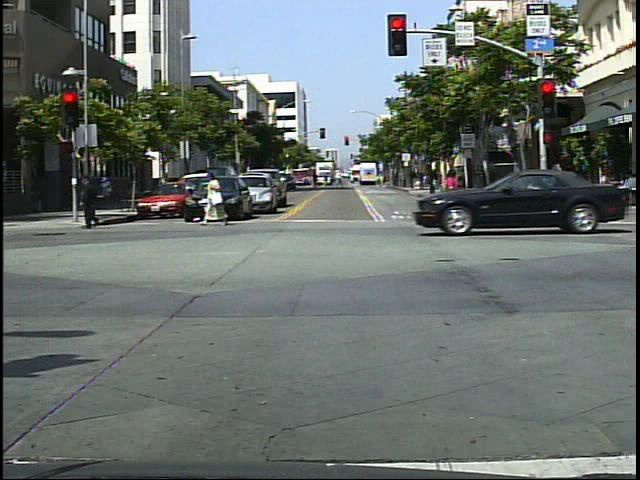person: (202, 168, 233, 232), (77, 169, 107, 235), (437, 166, 467, 226), (547, 160, 570, 211)
